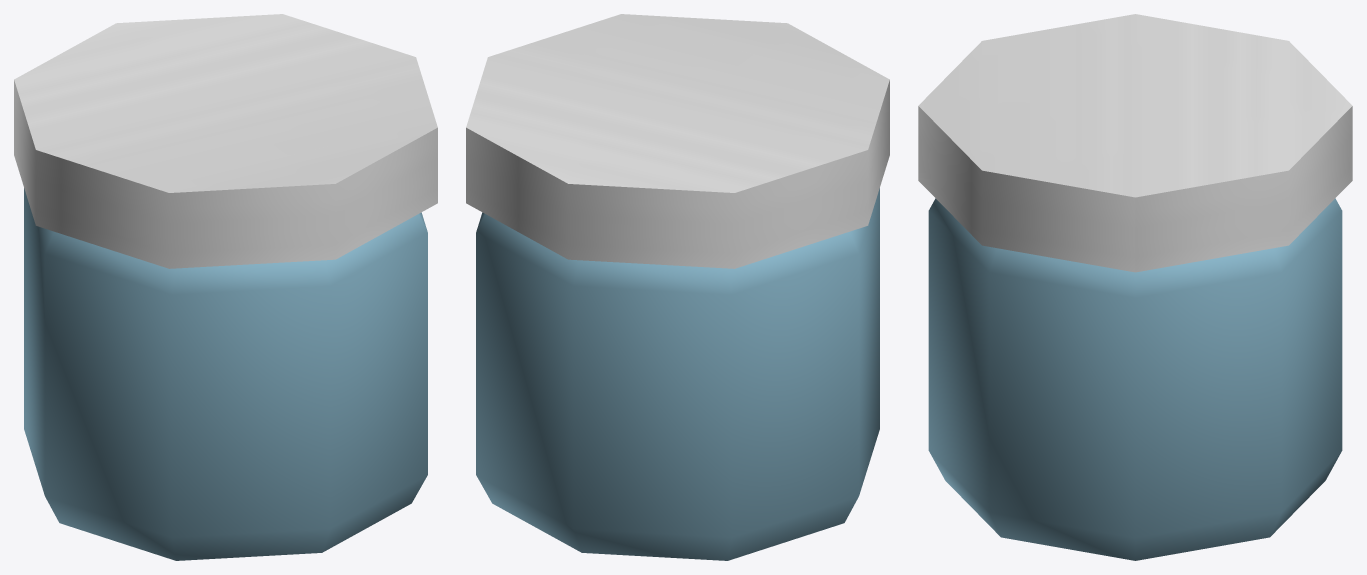
File: drug_luciferium.obj
3 renders of one model, left to right at view 1: azimuth 30°, elevation 25°; view 2: azimuth 150°, elevation 25°; view 3: azimuth 270°, elevation 25°, orthographic.
Parts seen in each view (by area): view 1: part_000_glass, part_159_gun_dark; view 2: part_000_glass, part_159_gun_dark; view 3: part_000_glass, part_159_gun_dark.
Boxes of the visible parts, x1,y1,x2,y2 form: part_000_glass: [24, 188, 427, 560]; part_159_gun_dark: [14, 14, 437, 268]; part_000_glass: [476, 188, 879, 560]; part_159_gun_dark: [466, 14, 889, 268]; part_000_glass: [928, 198, 1342, 560]; part_159_gun_dark: [918, 14, 1352, 272].
Bounding box in the file's own units: 0.21 × 0.2 × 0.21.
